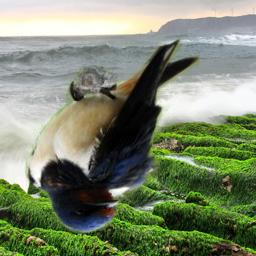Swallow: (25, 36, 200, 233)
